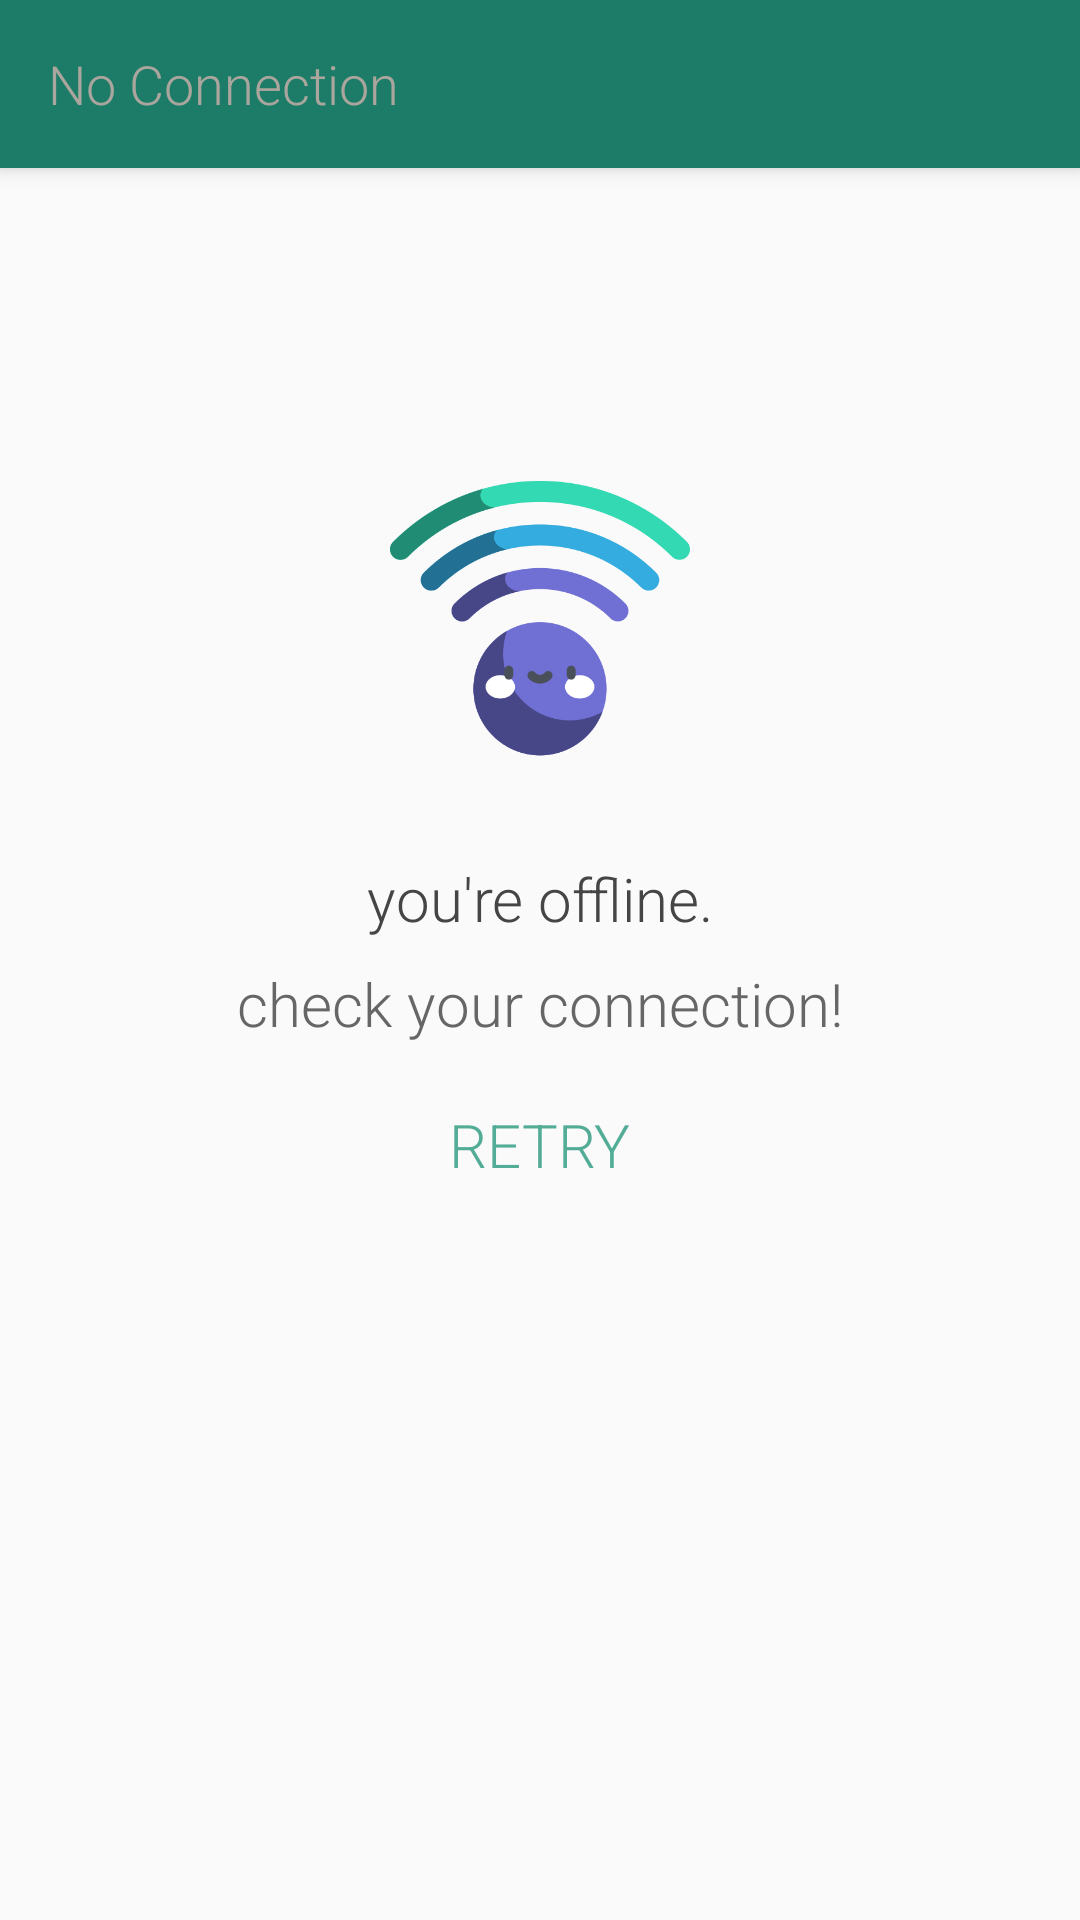

Named icons in this screenshot (1080x1920) and their bounding boxes, box(x1, y1, x2, y2):
wifi: box(390, 481, 690, 756)
